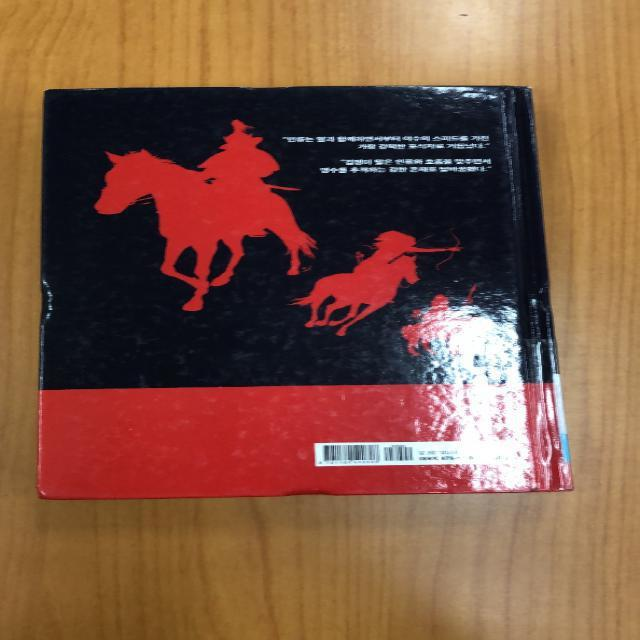Wornout: (39, 86, 62, 95)
